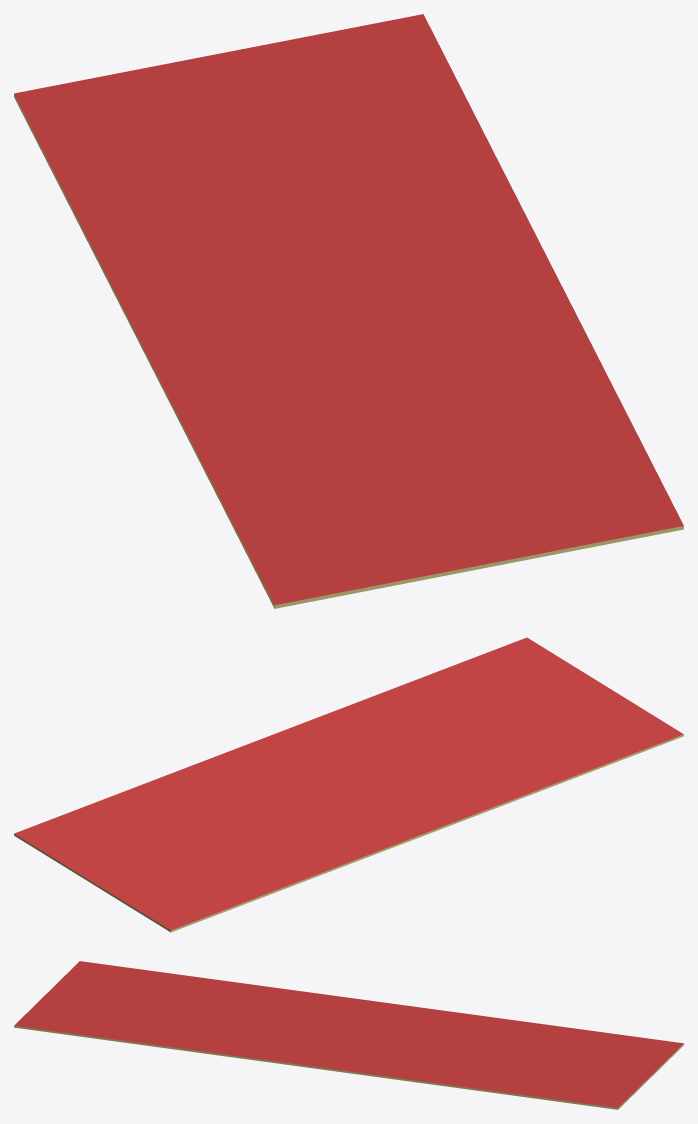
3 renders of one model, top to bottom at view 1: azimuth 30°, elevation 25°; view 2: azimuth 150°, elevation 25°; view 3: azimuth 270°, elevation 25°, orthographic. The views are drawn at different scales.
Bounding box in the file's own units: 19.4 × 32.59 × 1.26.
